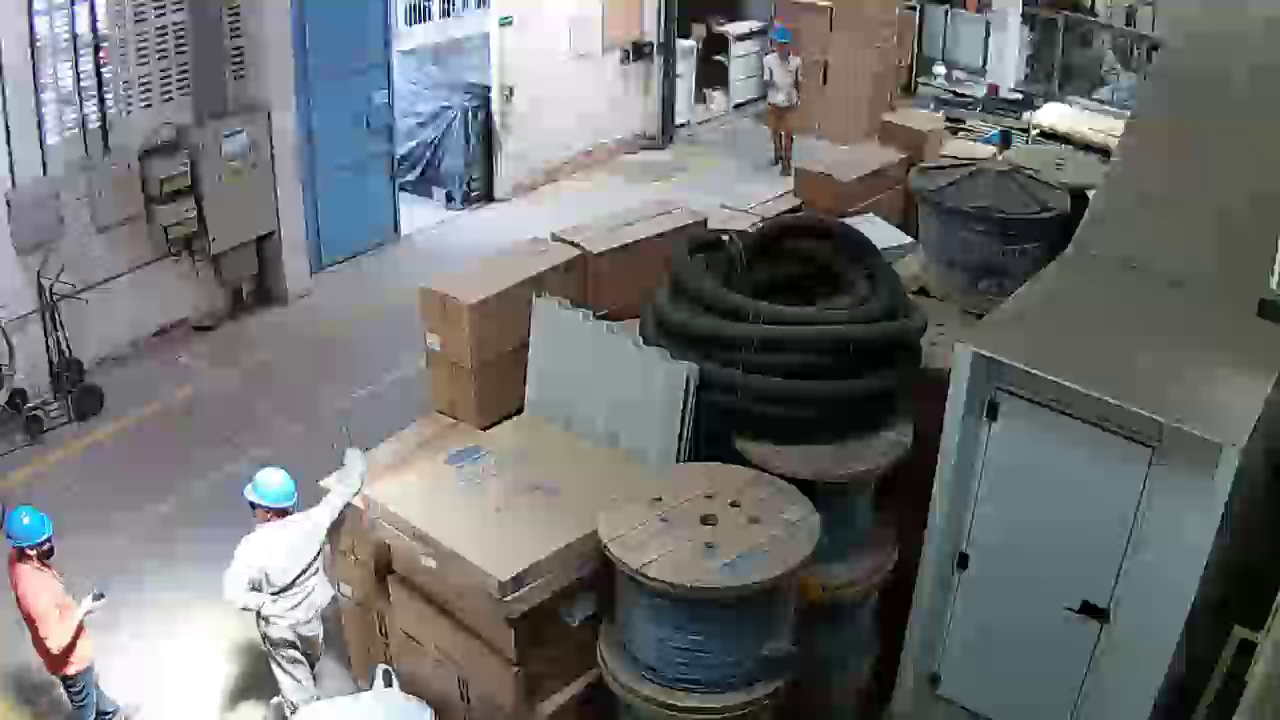background: (756, 26, 811, 171)
